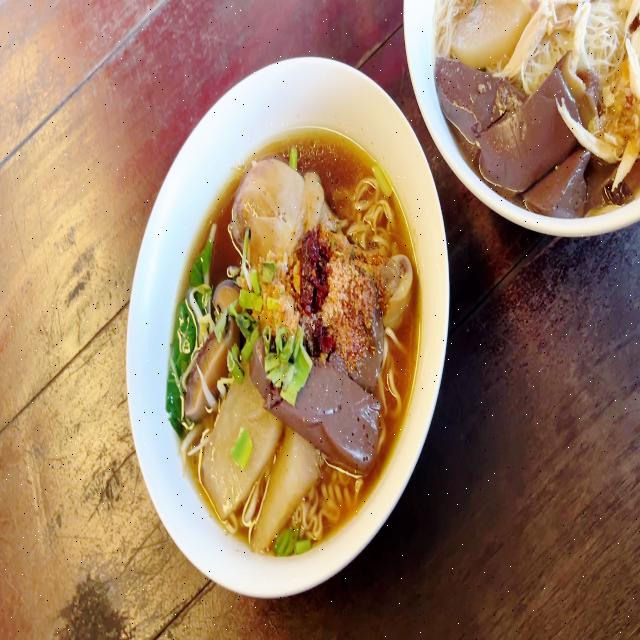boiled_chicken_blood_jelly: (446, 58, 600, 202), (304, 328, 388, 449)
chicken_drumstick: (233, 162, 407, 312)
chicken_shredded: (502, 3, 554, 80), (562, 101, 622, 166), (621, 0, 639, 140), (566, 0, 588, 84)
daikon_radish: (209, 382, 310, 527), (451, 0, 536, 55)
noodle: (157, 109, 425, 559), (425, 0, 640, 250)
